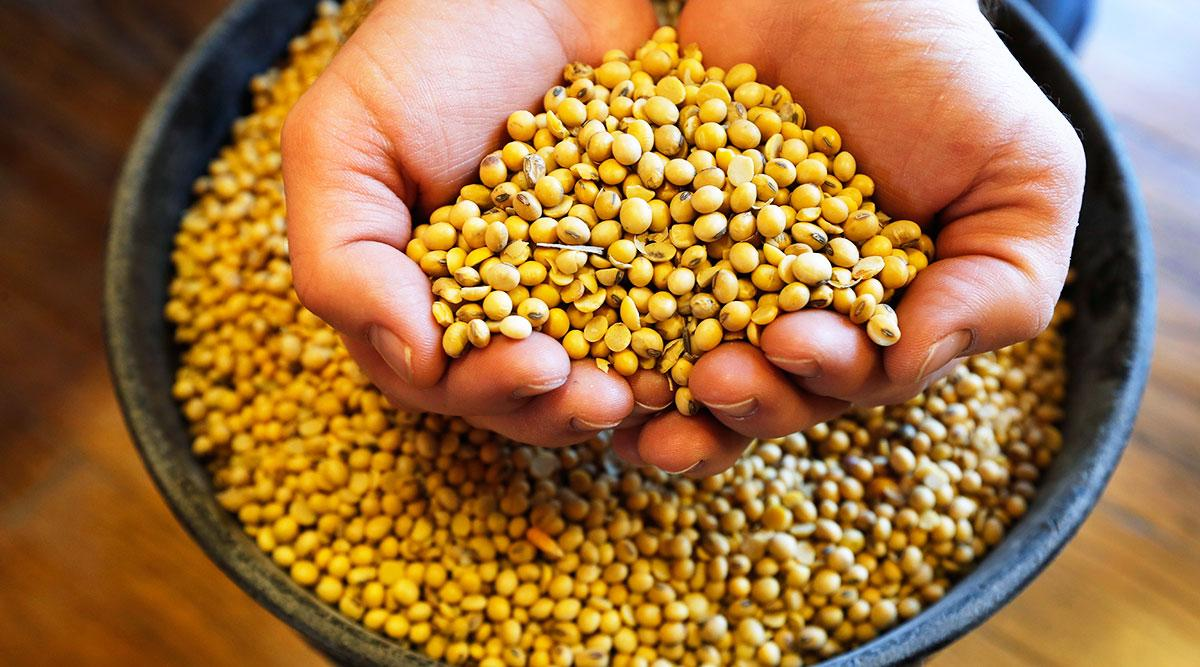peas: (164, 1, 1071, 664)
turnip: (403, 23, 935, 418)
